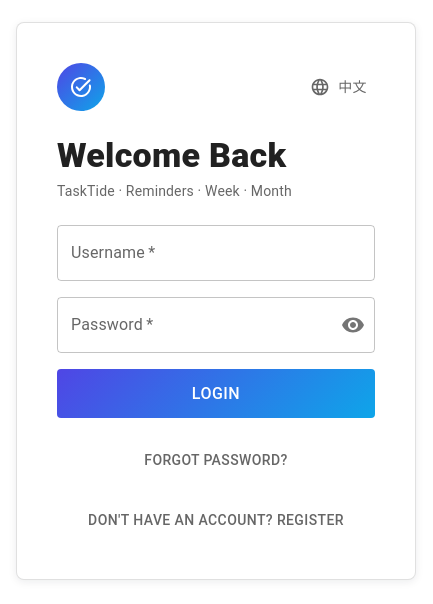
Test: LoginPage behavior › trims the username before submitting auth requests
Click the button "Don't have an account? Register" at [216, 521], box x1=57 y1=502 x2=375 y2=539
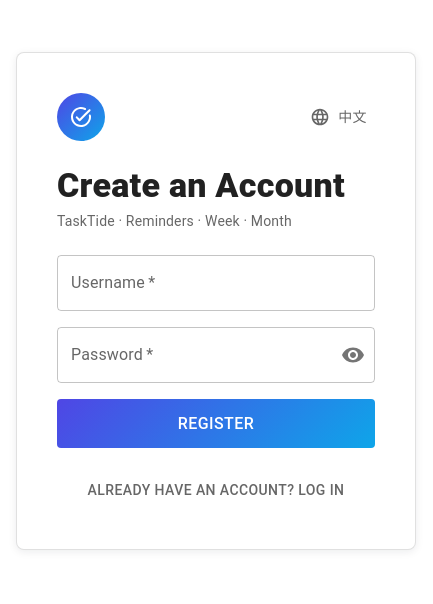
Type " FTJ " into the field labelled "Username *" at [216, 283], box x1=57 y1=255 x2=375 y2=311
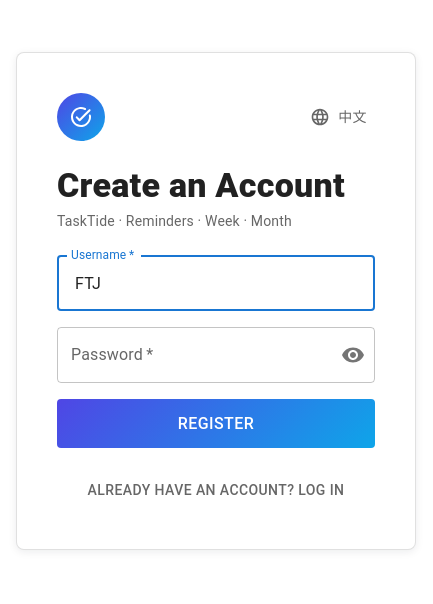
Type "123" into the password field labelled "Password *" at [191, 355], box x1=57 y1=327 x2=325 y2=383
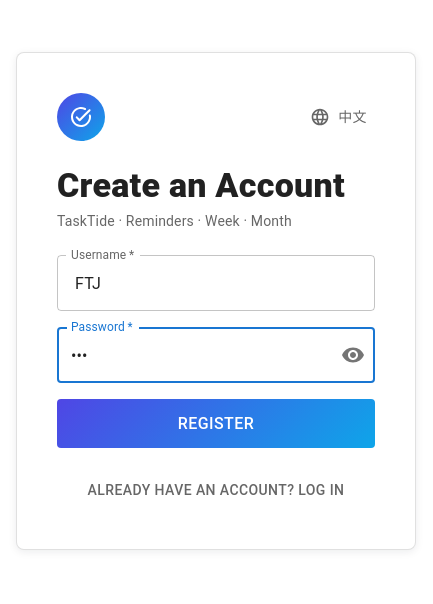
Click the button "Register" at [216, 424], box x1=57 y1=399 x2=375 y2=448
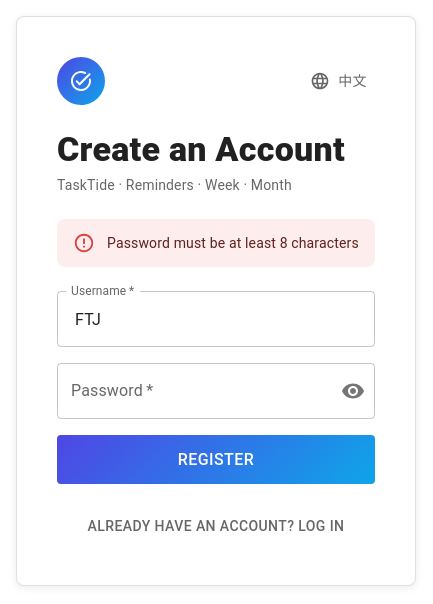
Expected: the text "Password must be at least 8 characters" is shown, x1=107 y1=235 x2=359 y2=251
